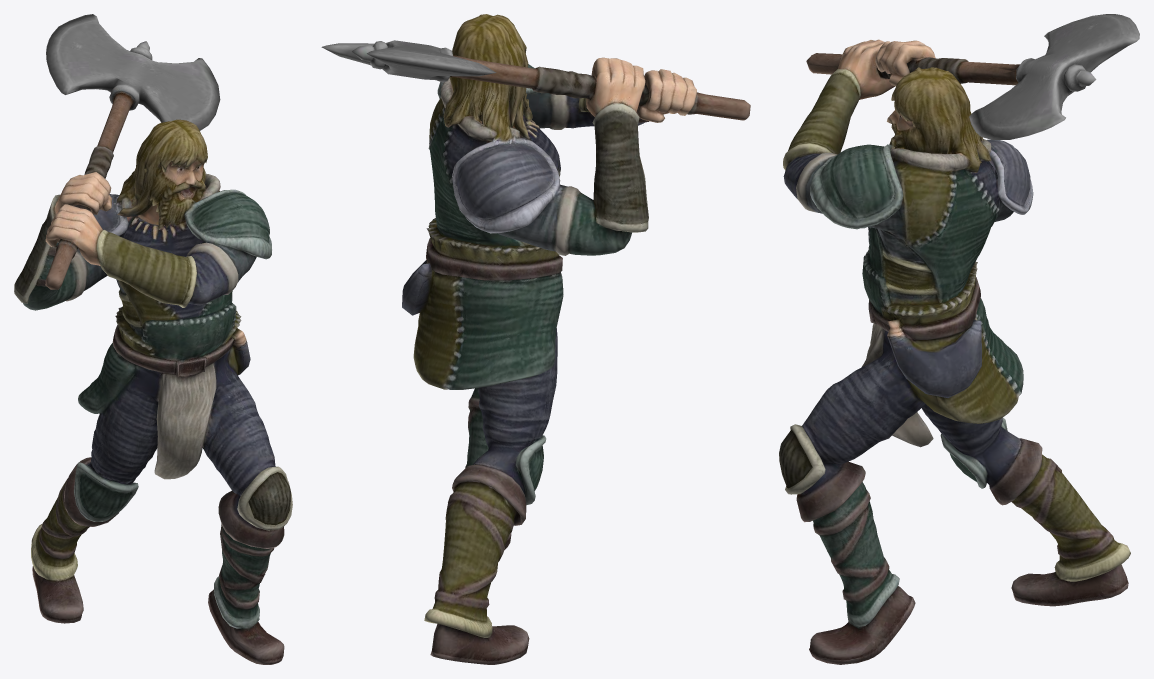
Rendered from MZ4250 - Berserker 02.glb.
3 views of the same model, side by side, from view 1: azimuth 30°, elevation 25°; view 2: azimuth 150°, elevation 25°; view 3: azimuth 270°, elevation 25° (orthographic). The views are drawn at different scales.
Parts seen in each view (by area): view 1: Berserker01; view 2: Berserker01; view 3: Berserker01.
Part boxes in pixels (<box>): Berserker01: <box>14,14,292,664</box>; Berserker01: <box>321,14,750,664</box>; Berserker01: <box>779,14,1139,664</box>.
Bounding box in the file's own units: 0.6101 × 1.19 × 0.6455.
Materials: 1 (1 with a texture image).
